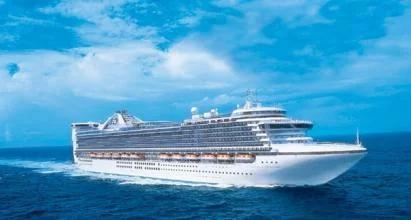youlun: (70, 99, 367, 183)
